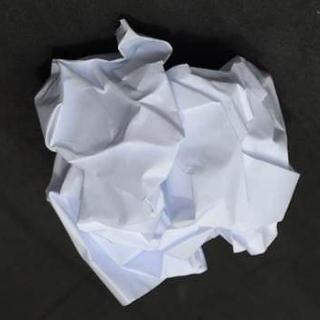Anorganik: (32, 14, 298, 308)
